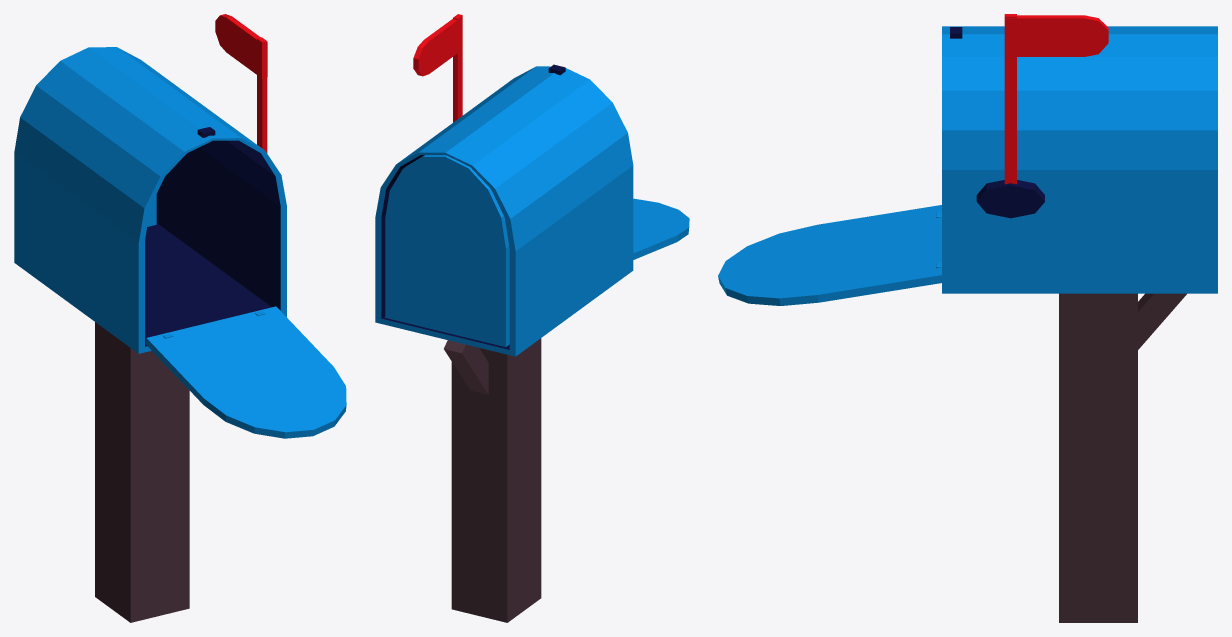
Rendered from ReferenceMailbox.obj.
3 renders of one model, left to right at view 1: azimuth 30°, elevation 25°; view 2: azimuth 150°, elevation 25°; view 3: azimuth 270°, elevation 25°, orthographic. The views are drawn at different scales.
Visible parts, largest first — view 1: Mailbox_arched_shell, Square_support_post, Front_hatch_-_bottom_hinge, Rounded_horizontal_flag_tab, Flag_upright_pole; view 2: Mailbox_arched_shell, Square_support_post, Mailbox_back_panel, Front_hatch_-_bottom_hinge, Rounded_horizontal_flag_tab, Diagonal_support, Flag_upright_pole; view 3: Mailbox_arched_shell, Square_support_post, Front_hatch_-_bottom_hinge, Rounded_horizontal_flag_tab, Flag_octagonal_pivot, Flag_upright_pole, Diagonal_support.
Part boxes in pixels (box(x1,y1,x2,y2)): Mailbox_arched_shell: box(14, 47, 286, 353); Square_support_post: box(95, 322, 189, 622); Front_hatch_-_bottom_hinge: box(146, 306, 346, 438); Rounded_horizontal_flag_tab: box(215, 14, 267, 78); Flag_upright_pole: box(257, 37, 267, 153); Mailbox_arched_shell: box(375, 66, 633, 356); Square_support_post: box(451, 338, 541, 622); Mailbox_back_panel: box(385, 155, 509, 347); Front_hatch_-_bottom_hinge: box(633, 198, 689, 259); Rounded_horizontal_flag_tab: box(413, 16, 462, 76); Diagonal_support: box(444, 340, 488, 394); Flag_upright_pole: box(453, 14, 462, 122); Mailbox_arched_shell: box(942, 26, 1217, 293); Square_support_post: box(1059, 293, 1137, 622); Front_hatch_-_bottom_hinge: box(718, 205, 941, 305); Rounded_horizontal_flag_tab: box(1005, 15, 1108, 56); Flag_octagonal_pivot: box(976, 180, 1044, 218); Flag_upright_pole: box(1004, 14, 1016, 184); Diagonal_support: box(1138, 293, 1186, 349).
Size of the model in its own units: 1.35 by 4.58 by 3.27.
